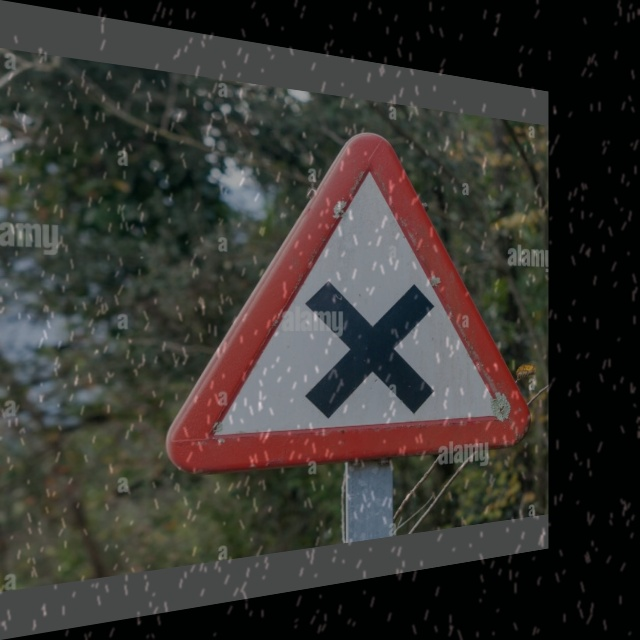Cross_Road: (174, 109, 528, 475)
